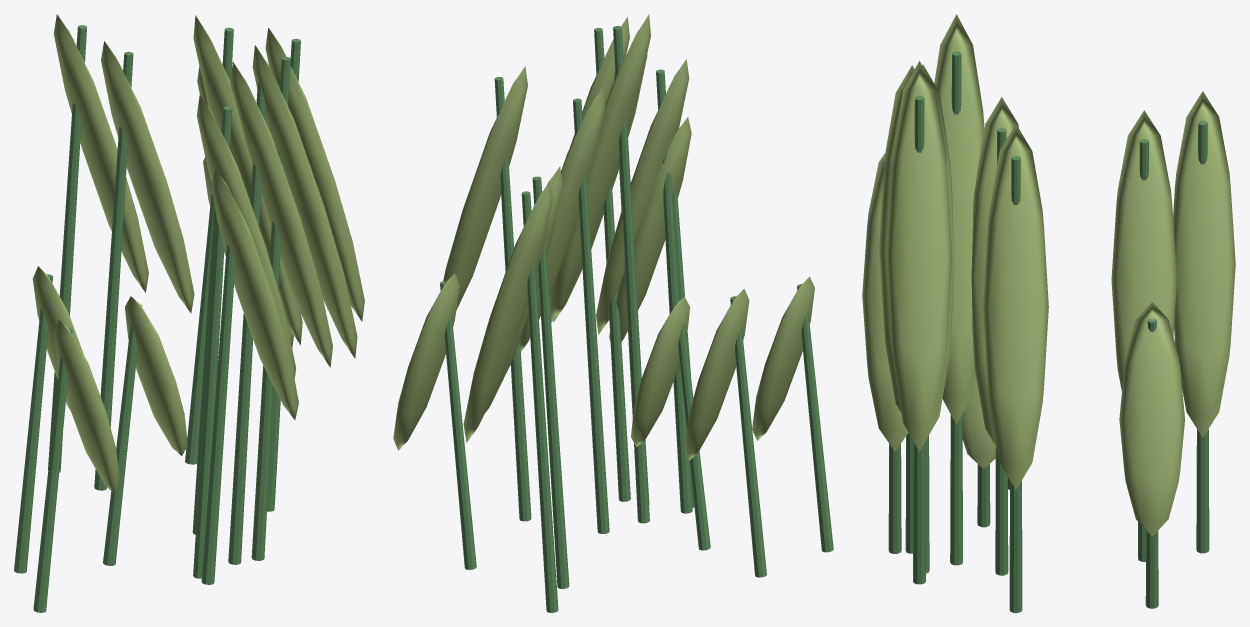
File: Reeds_A.fbx
3 views of the same model, side by side, from view 1: azimuth 30°, elevation 25°; view 2: azimuth 150°, elevation 25°; view 3: azimuth 270°, elevation 25° (orthographic). The views are drawn at different scales.
Visible parts, largest first — view 1: Reeds_A; view 2: Reeds_A; view 3: Reeds_A.
Boxes of the visible parts, left/top/right/bottom form: Reeds_A: left=14, top=14, right=364, bottom=612; Reeds_A: left=393, top=14, right=833, bottom=612; Reeds_A: left=862, top=14, right=1235, bottom=612.
Bounding box in the file's own units: 79.66 × 110 × 68.17.
